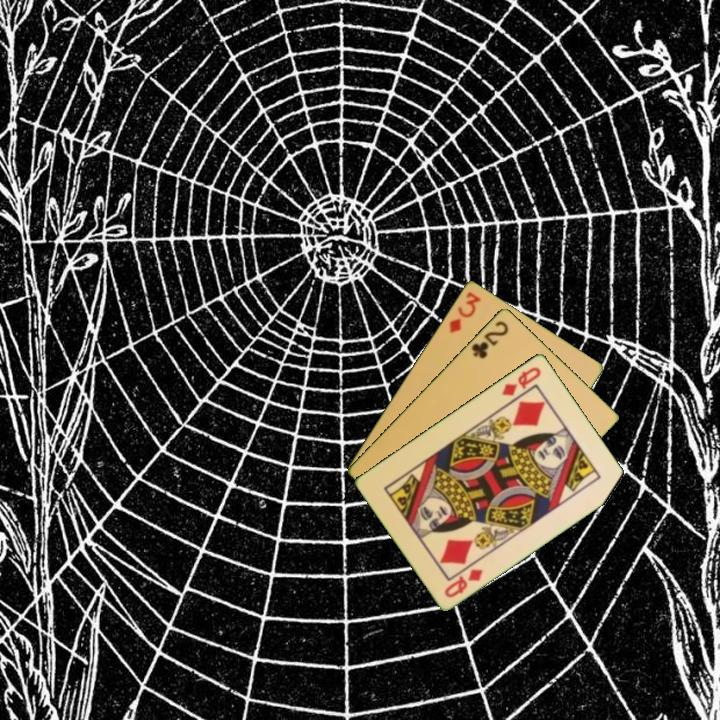2c: (468, 317, 512, 361)
3d: (445, 287, 484, 336)
Qd: (498, 363, 544, 398), (441, 565, 486, 600)
